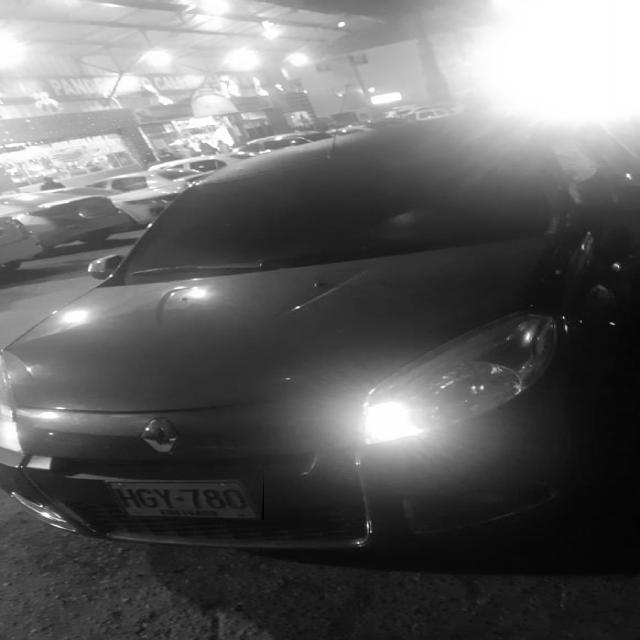plate: (96, 474, 263, 520)
